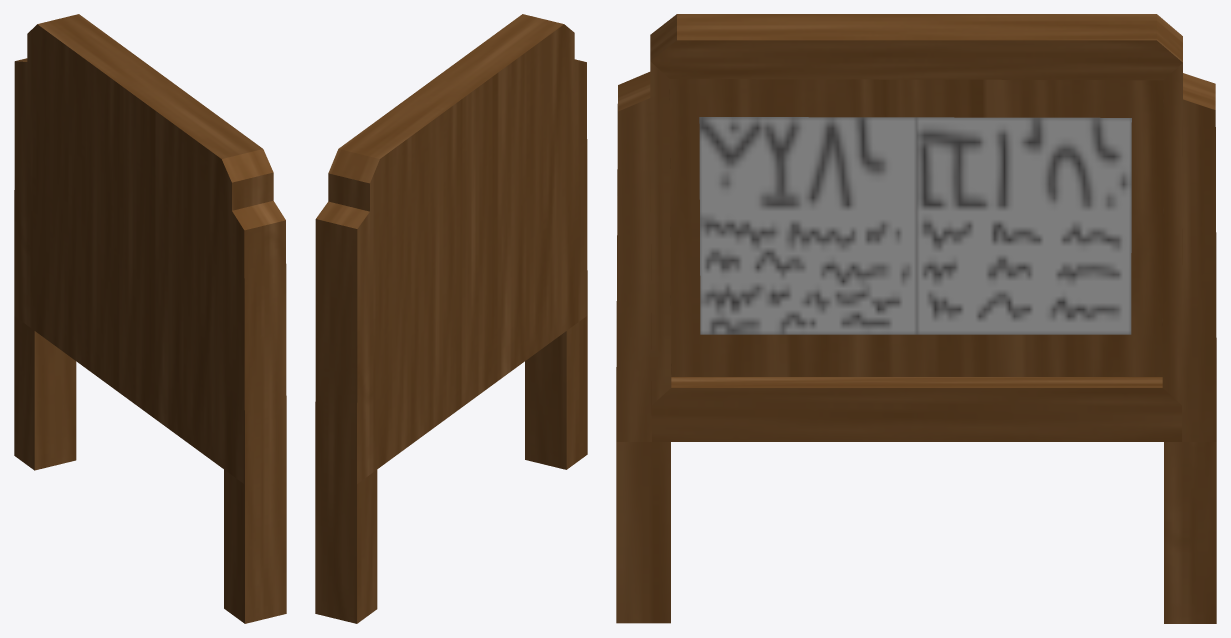
Rendered from Board 1.fbx.
3 views of the same model, side by side, from view 1: azimuth 30°, elevation 25°; view 2: azimuth 150°, elevation 25°; view 3: azimuth 270°, elevation 25° (orthographic). The views are drawn at different scales.
Parts seen in each view (by area): view 1: Board_1; view 2: Board_1; view 3: Board_1.
Boxes of the visible parts, box(x1,y1,x2,y2) form: Board_1: box(14, 14, 286, 623); Board_1: box(315, 14, 587, 623); Board_1: box(616, 14, 1216, 623).
Size of the model in its own units: 22.73 by 234 by 218.
Materials: 1 (1 with a texture image).
